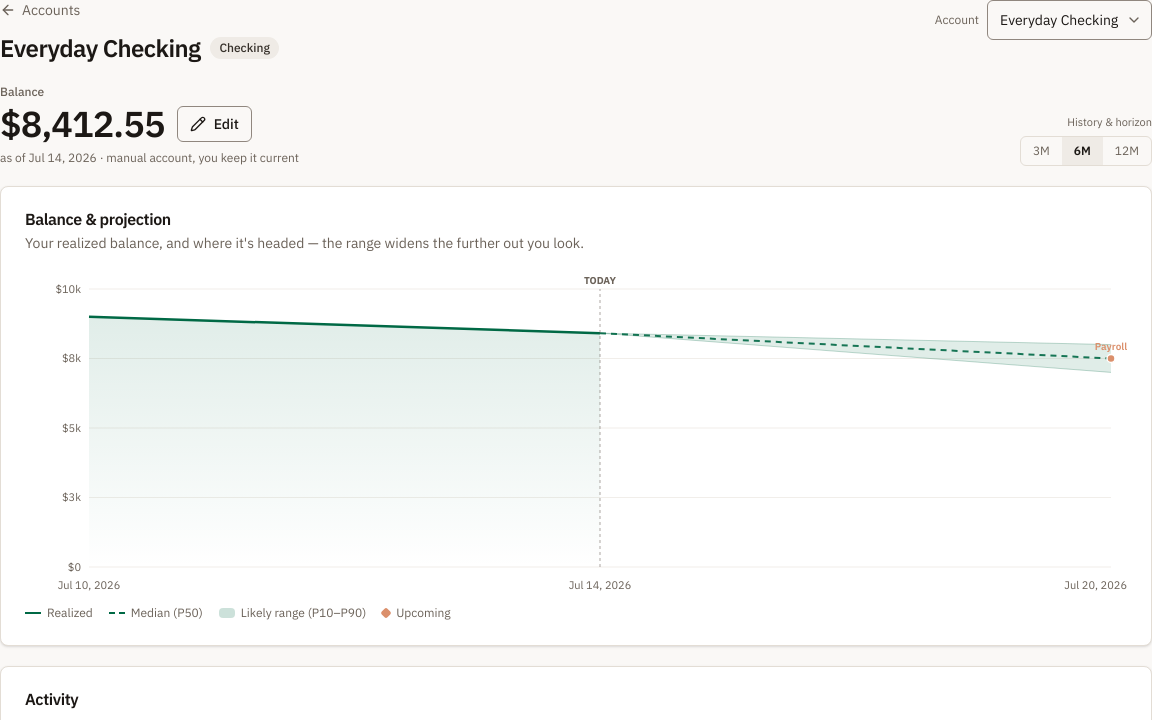
Test: AccountDetailView › opens the balance editor from the Edit button
Expected: the heading "Everyday Checking" is shown, [0,32,200,64]
Click the button "Edit". click: [214, 124]
box: [177,106,252,142]
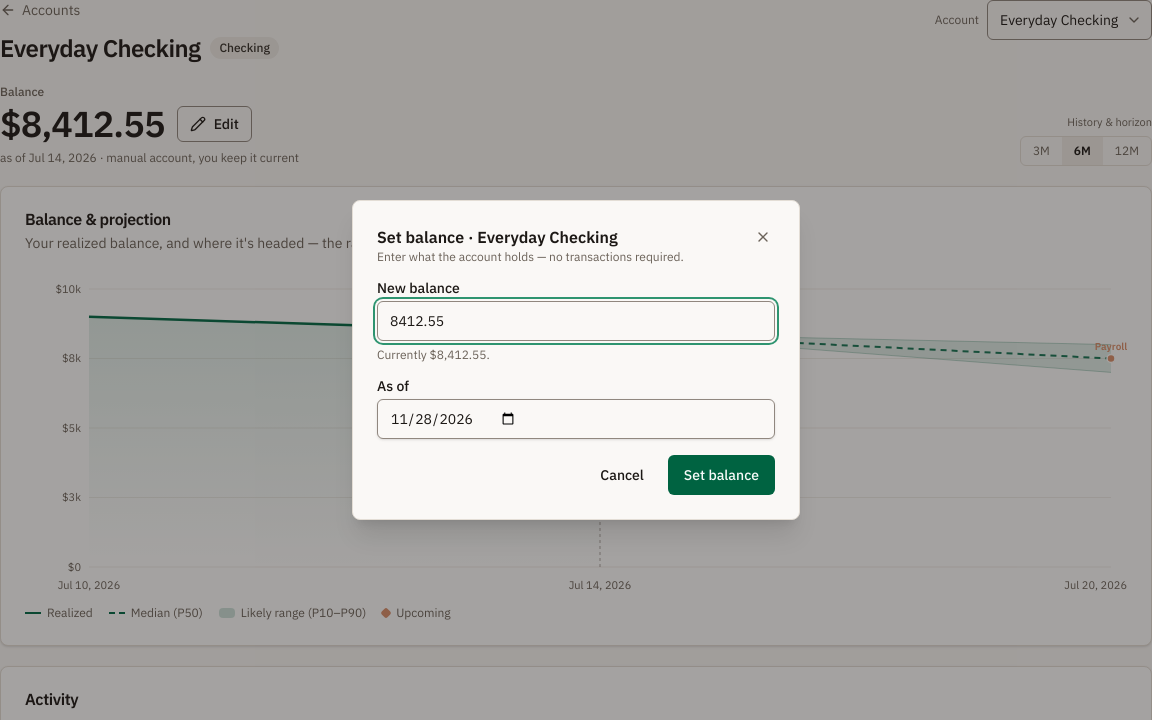
Expected: the dialog named "Set balance for Everyday Checking" is shown, [352,200,800,520]
